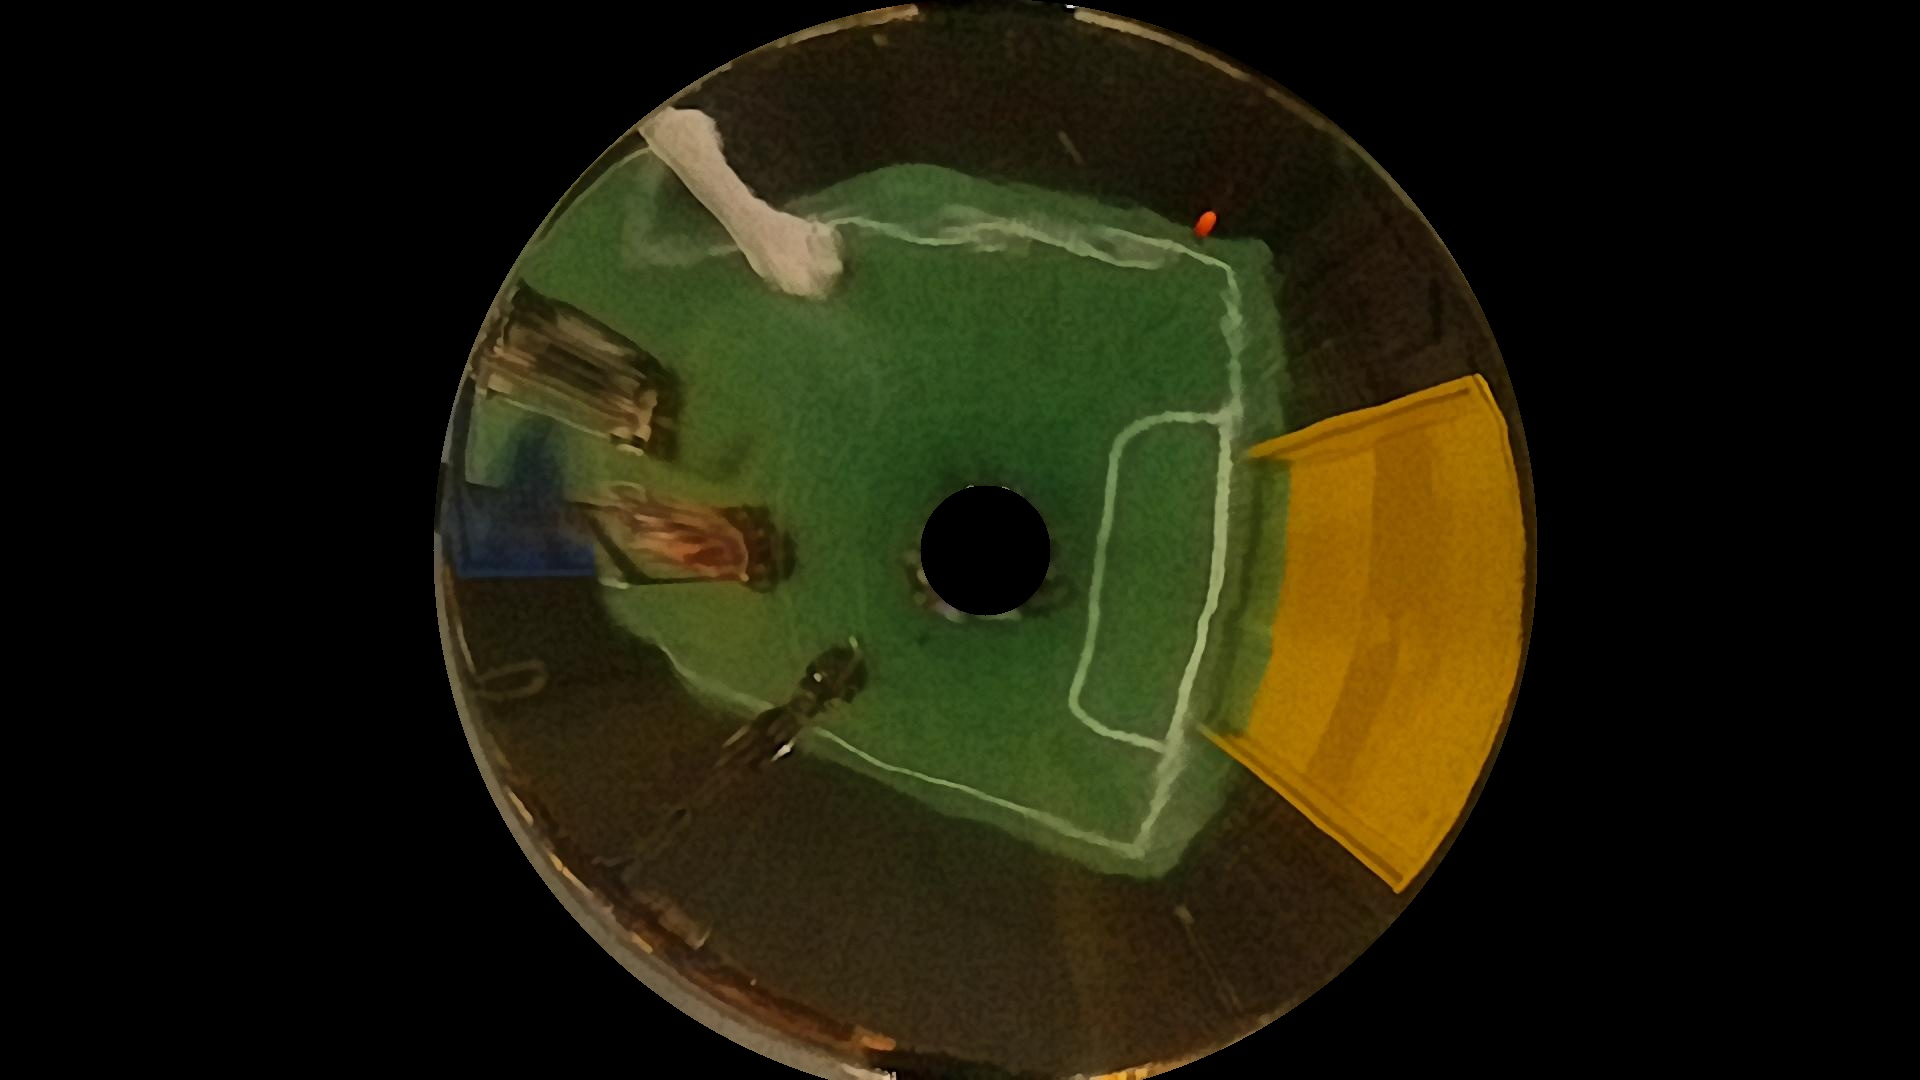ball: (1192, 208, 1224, 247)
blue-goal: (458, 372, 592, 596)
robots: (480, 291, 692, 452), (566, 480, 793, 596), (727, 636, 887, 762)
yellow-goal: (1203, 415, 1516, 870)
